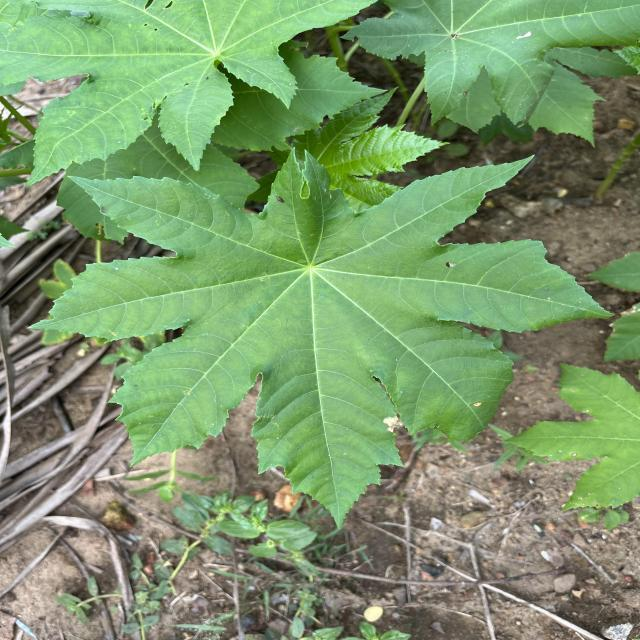Ricinus communis linn: (23, 143, 621, 534)
